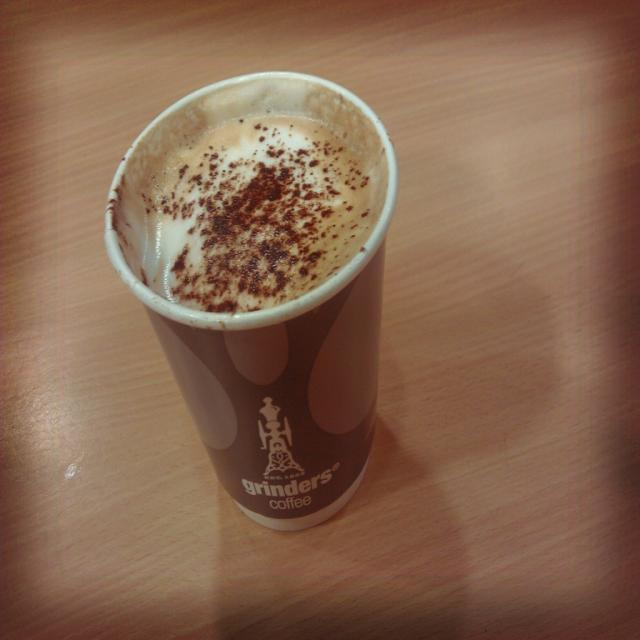Coffee: (124, 104, 384, 308)
